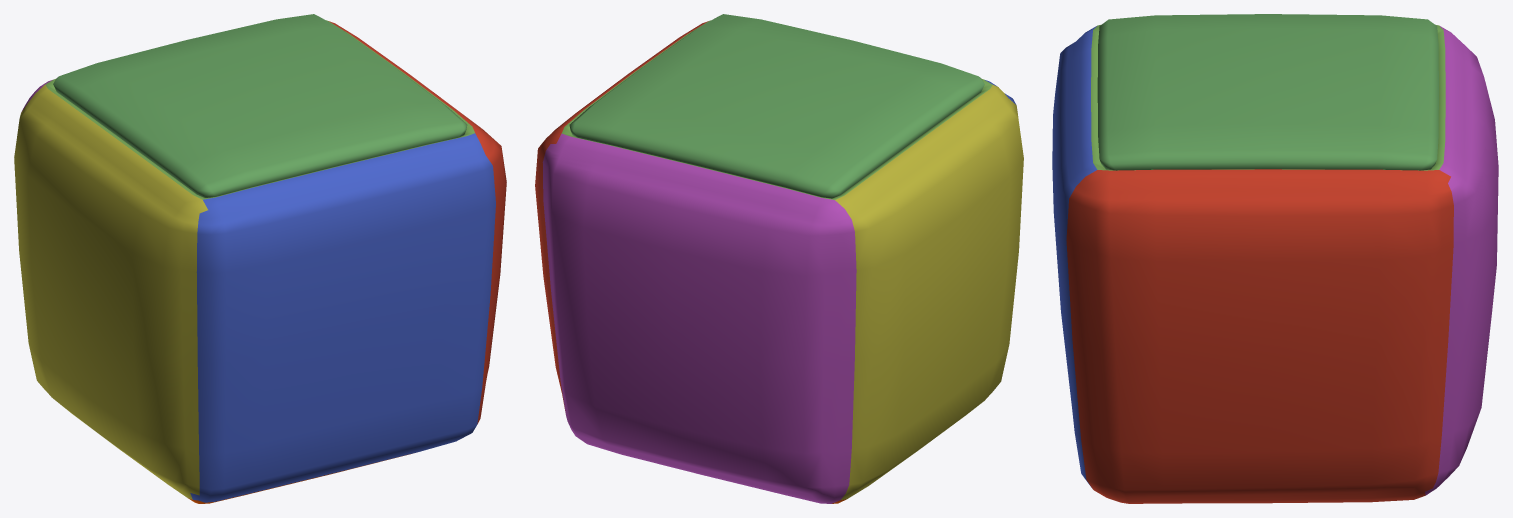
Rendered from chair.fbx.
3 renders of one model, left to right at view 1: azimuth 30°, elevation 25°; view 2: azimuth 150°, elevation 25°; view 3: azimuth 270°, elevation 25°, orthographic. The views are drawn at different scales.
Visible parts, largest first — view 1: pCube1; view 2: pCube1; view 3: pCube1.
Part boxes in pixels (left/top/right/bottom): pCube1: left=14, top=14, right=506, bottom=503; pCube1: left=535, top=14, right=1023, bottom=503; pCube1: left=1052, top=14, right=1498, bottom=503.
Size of the model in its own units: 1.2 by 1.07 by 1.17.
